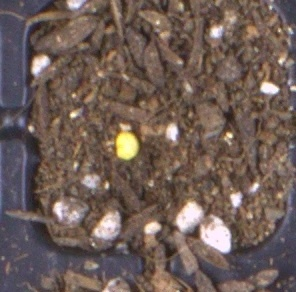chilli seed: (114, 131, 140, 160)
